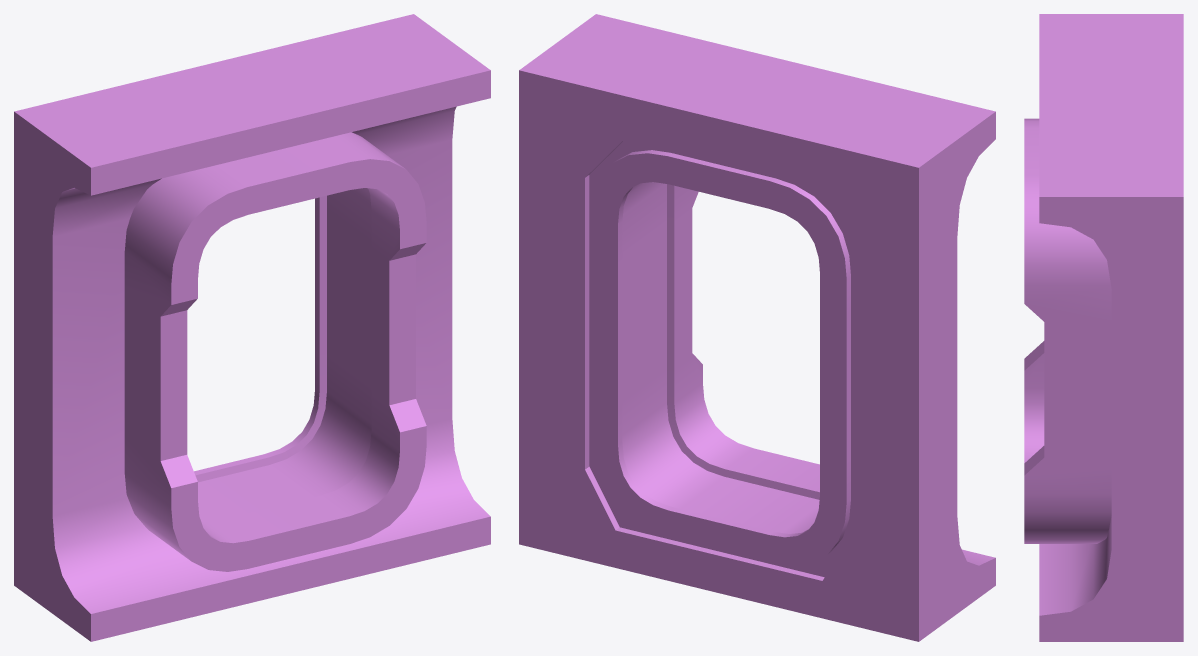
Rendered from Wall_Door_To_BaseWall.FBX.
3 renders of one model, left to right at view 1: azimuth 30°, elevation 25°; view 2: azimuth 150°, elevation 25°; view 3: azimuth 270°, elevation 25°, orthographic. The views are drawn at different scales.
Visible parts, largest first — view 1: Wall_Door_To_BaseWall; view 2: Wall_Door_To_BaseWall; view 3: Wall_Door_To_BaseWall.
Part boxes in pixels (x1=…): Wall_Door_To_BaseWall: x1=14, y1=14, x2=490, y2=641; Wall_Door_To_BaseWall: x1=519, y1=14, x2=995, y2=641; Wall_Door_To_BaseWall: x1=1024, y1=14, x2=1183, y2=641.
Size of the model in its own units: 300 by 340 by 110.
